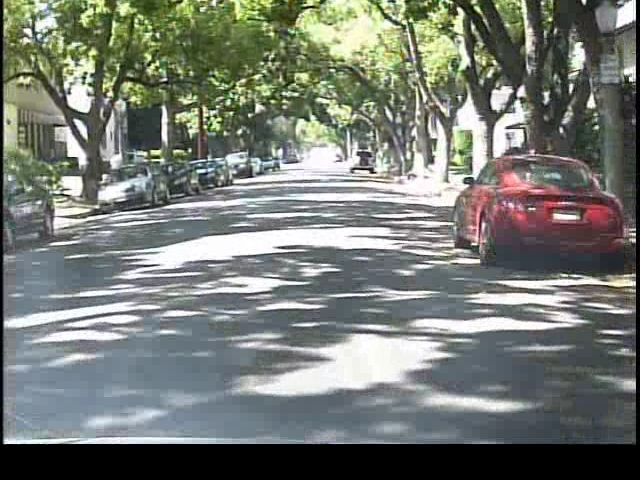person: (109, 147, 132, 198)
